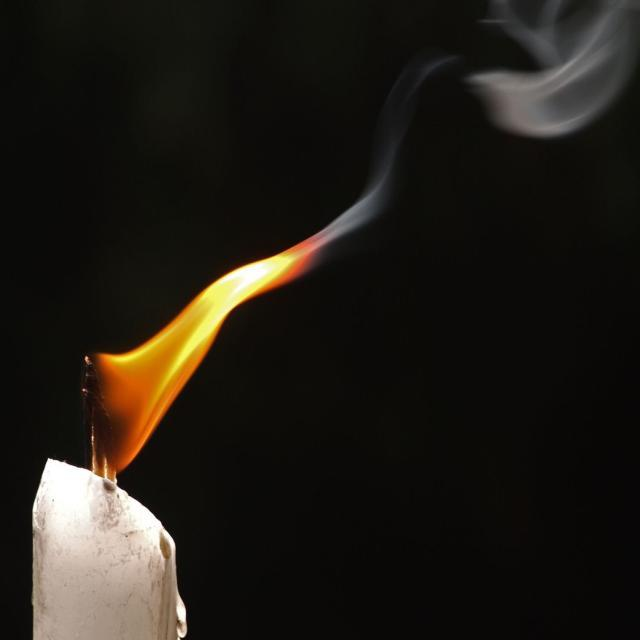Fire: (79, 231, 324, 512)
Smoke: (471, 1, 640, 138), (321, 177, 388, 240)
